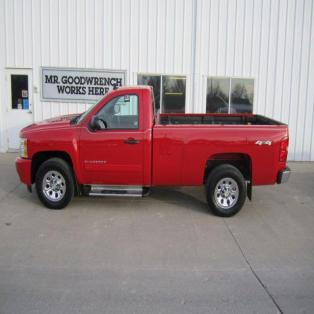Auto: (15, 86, 292, 217)
